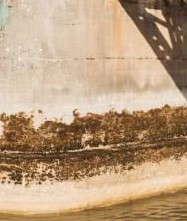Corrosion: (1, 103, 187, 187)
